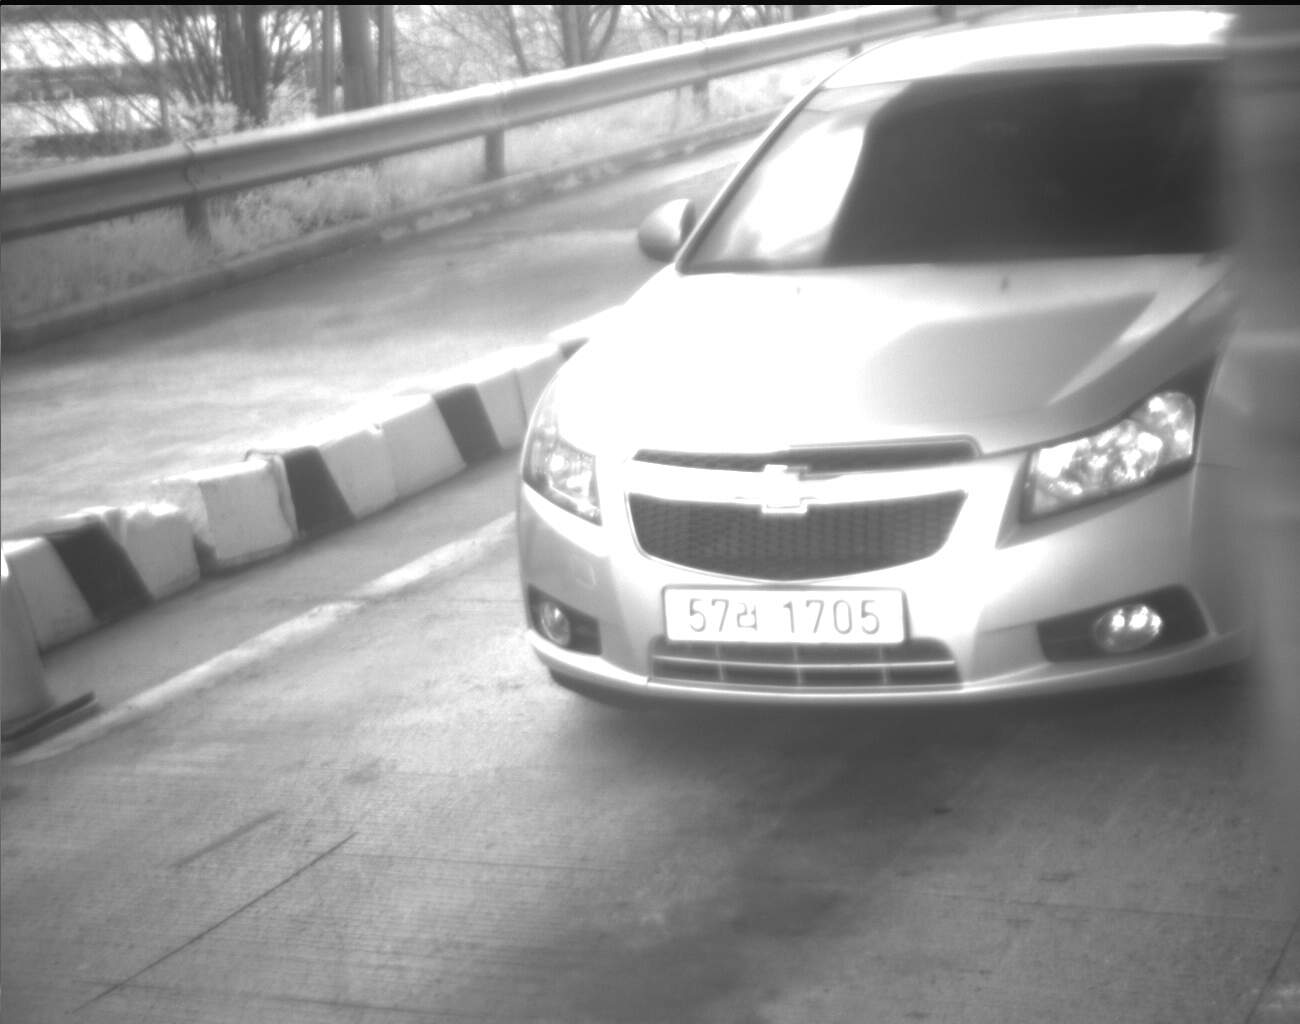car: (511, 1, 1261, 727)
plate: (663, 588, 908, 646)
